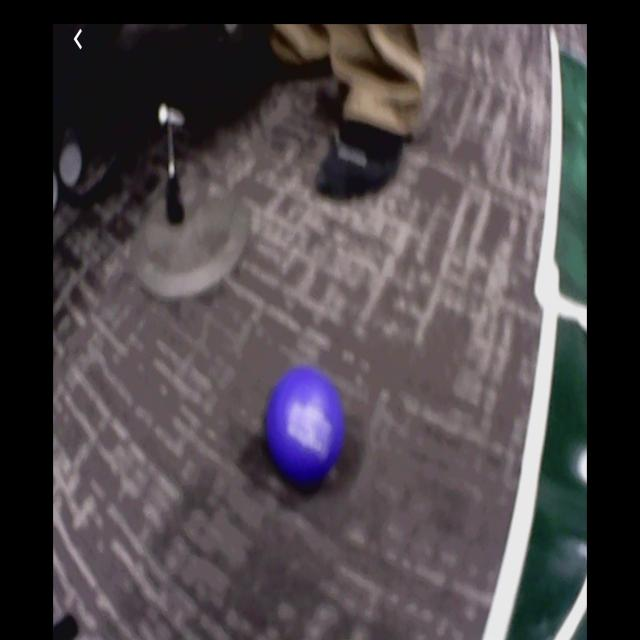ball: (264, 367, 343, 483)
